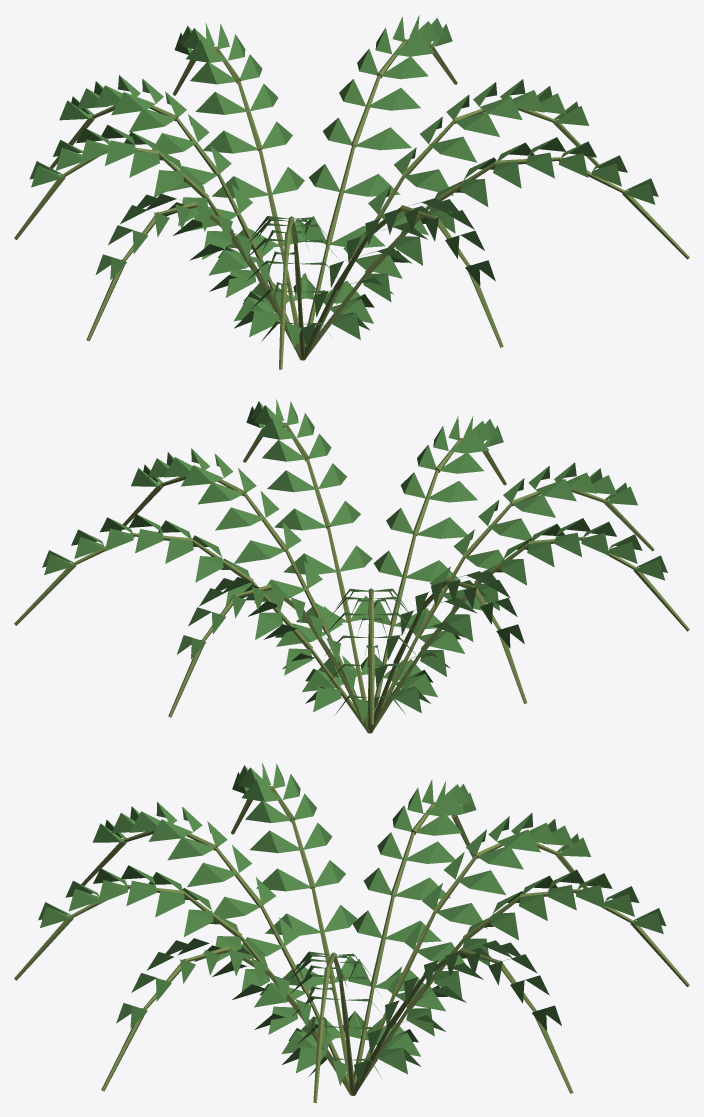
The model's file is SM_Fern.fbx.
3 views of the same model, one above another, from view 1: azimuth 30°, elevation 25°; view 2: azimuth 150°, elevation 25°; view 3: azimuth 270°, elevation 25° (orthographic). The views are drawn at different scales.
Parts seen in each view (by area): view 1: SM_Fern; view 2: SM_Fern; view 3: SM_Fern.
Part boxes in pixels (x1=…): SM_Fern: x1=14, y1=15, x2=689, y2=369; SM_Fern: x1=14, y1=399, x2=689, y2=733; SM_Fern: x1=14, y1=762, x2=689, y2=1102.
Bounding box in the file's own units: 165 × 175 × 65.86.
